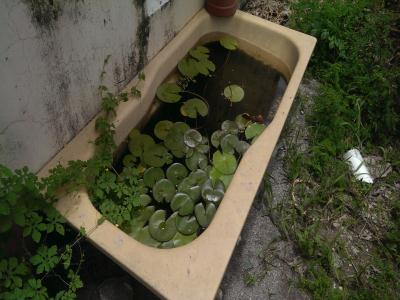bottle: (340, 146, 376, 186)
tub: (30, 3, 317, 298)
